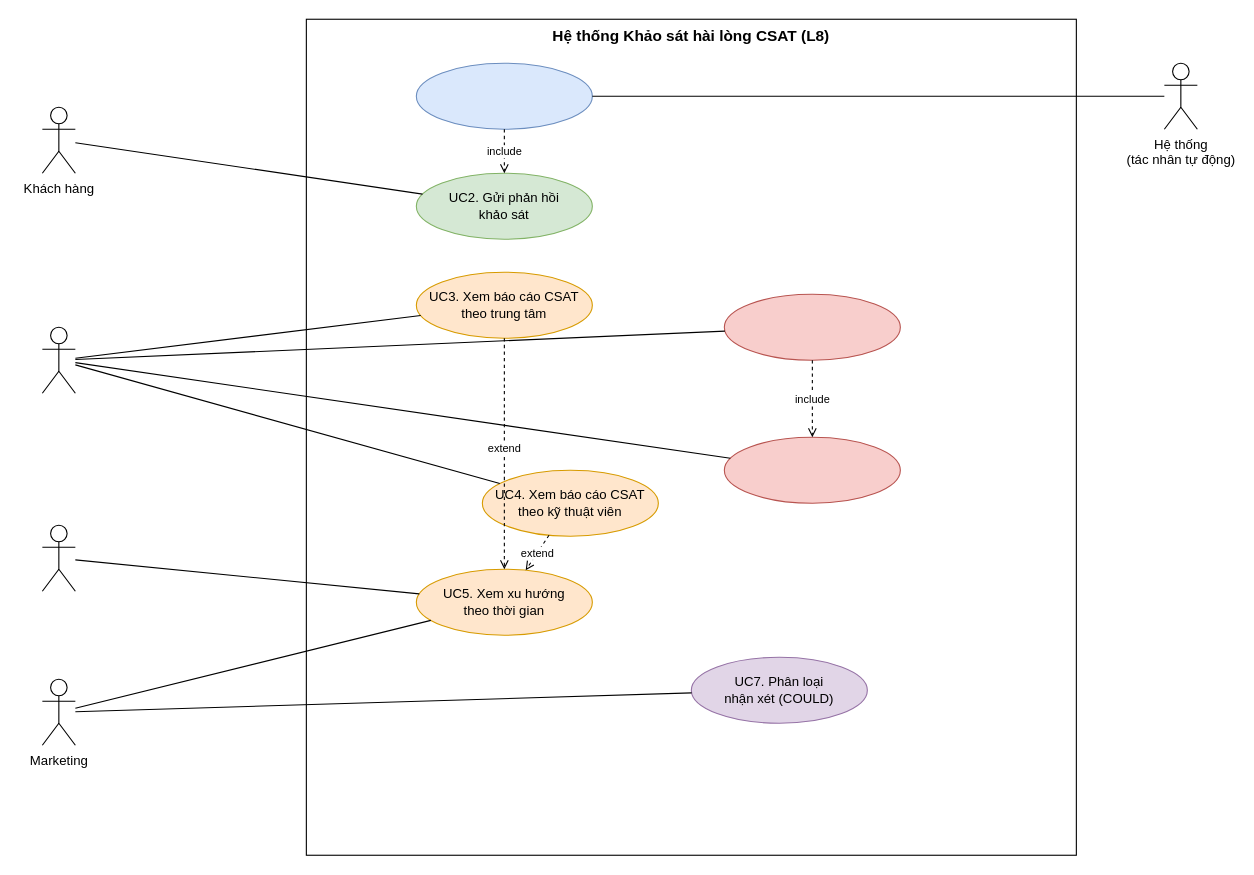
Some shapes in this 1254 by 875 pixel diagram are drawn without their labels. The centre of each missing label's shape, as x and y in pixels:
"Ban giám đốc" belongs at point (58, 557).
"Quản lý trung tâm" belongs at point (58, 359).
"UC1. Tạo khảo sát tự động" belongs at point (503, 95).
"UC6. Lọc phản hồi điểm thấp" belongs at point (811, 326).
"UC8. Nhận thông báo điểm thấp" belongs at point (811, 469).
